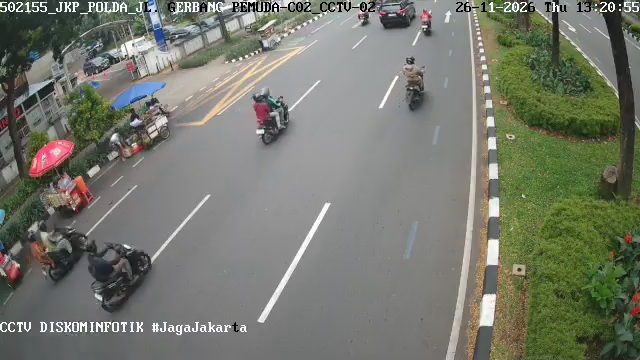Gerobak: (110, 111, 172, 158)
